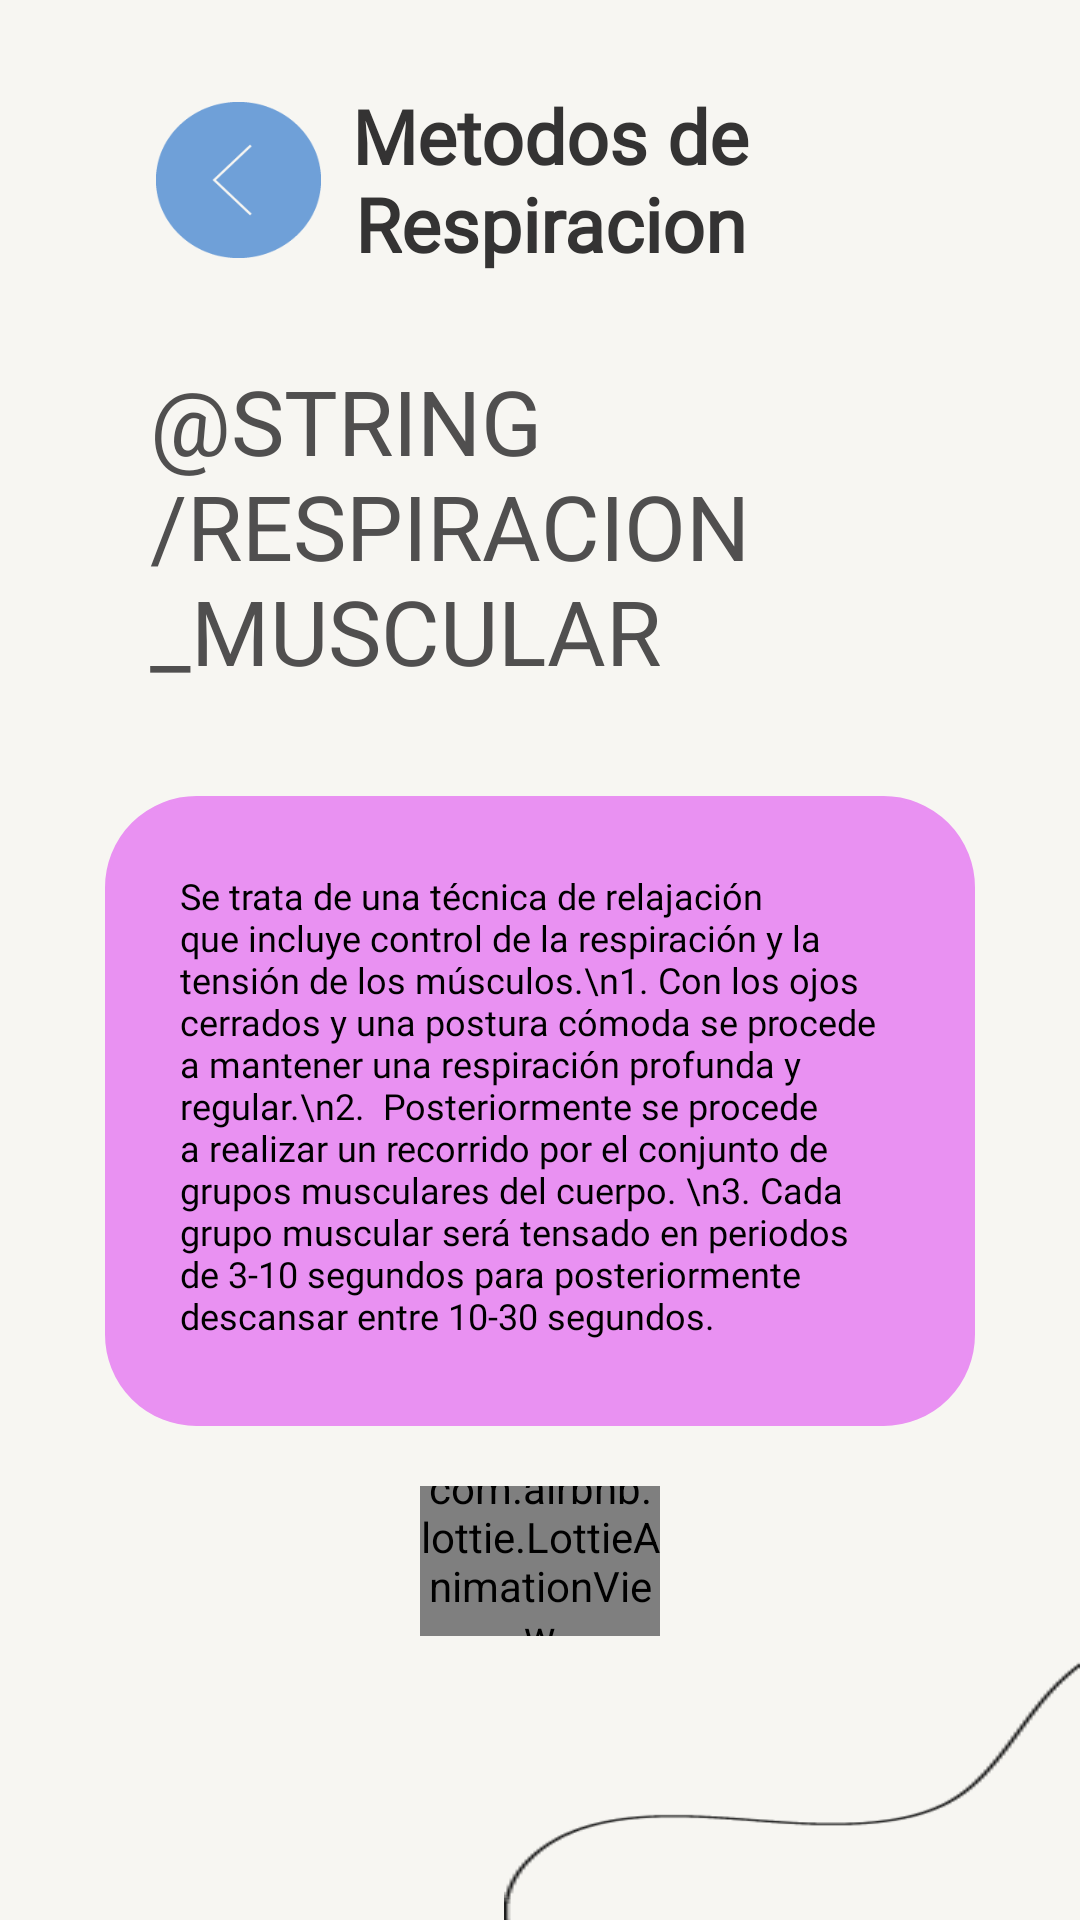

Icons on this 1080*1920 Android screen, each with the point to tap as point (x, y):
regresar xxxdpi: point (238, 180)
